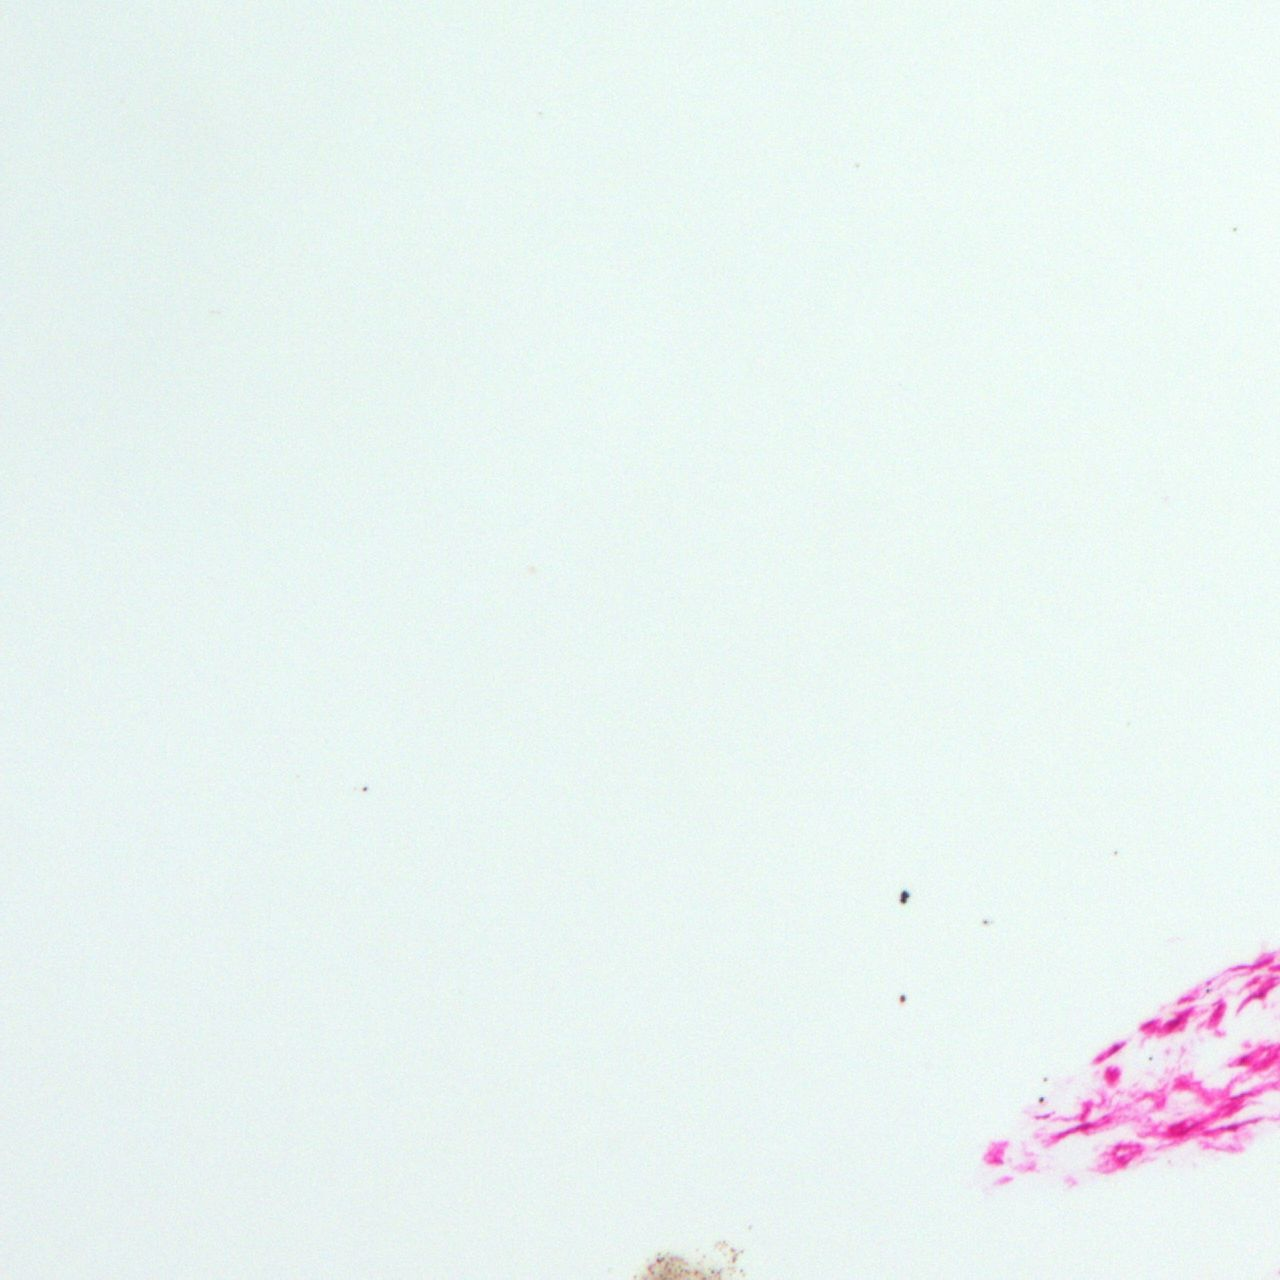dust: (899, 888, 908, 904), (360, 785, 367, 792), (899, 994, 905, 1002), (1039, 1095, 1044, 1103), (982, 919, 988, 925), (1148, 1056, 1153, 1061), (1114, 850, 1118, 855), (1043, 1076, 1047, 1081), (1206, 989, 1210, 993)
nucleus-FG: (1092, 1041, 1123, 1064), (1056, 1123, 1085, 1139), (1165, 1019, 1182, 1032), (1139, 1017, 1156, 1030), (1237, 1055, 1251, 1065), (1251, 990, 1266, 999), (1224, 1124, 1239, 1132)
